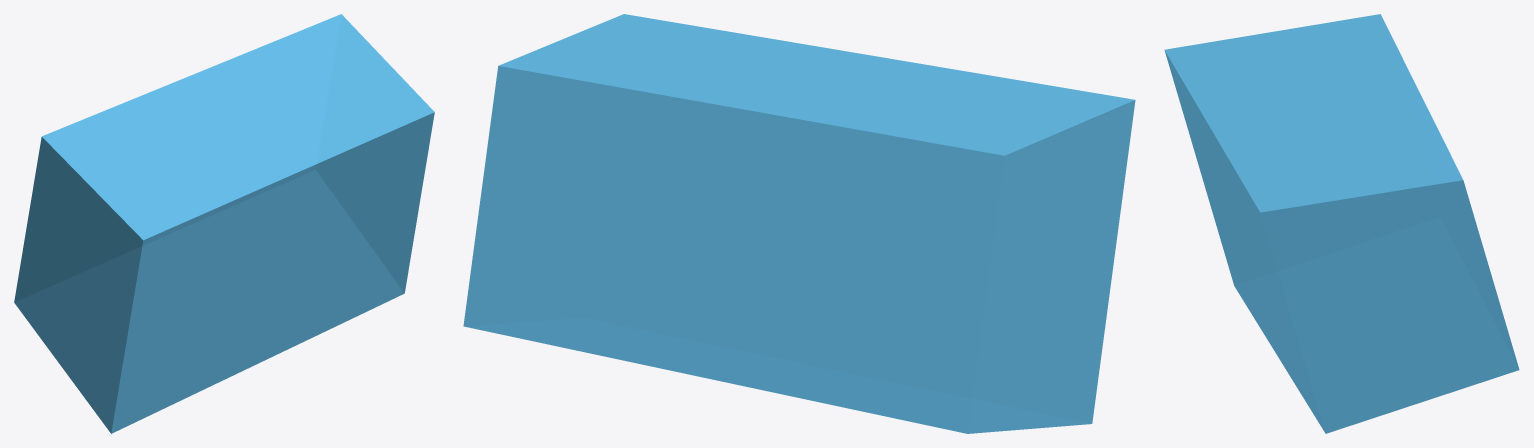
The model's file is Event_420107950_HErechit_55.fbx.
3 renders of one model, left to right at view 1: azimuth 30°, elevation 25°; view 2: azimuth 150°, elevation 25°; view 3: azimuth 270°, elevation 25°, orthographic. The views are drawn at different scales.
Visible parts, largest first — view 1: Model; view 2: Model; view 3: Model.
Part boxes in pixels (box(x1,y1,x2,y2)): Model: box(14, 14, 434, 433); Model: box(463, 14, 1135, 433); Model: box(1164, 14, 1519, 433).
Size of the model in its own units: 0.7485 by 0.5526 by 0.6263.
